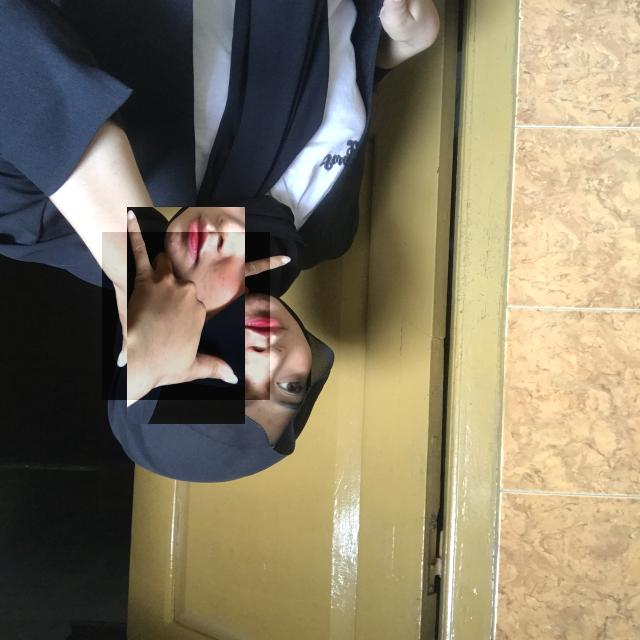telpon: (102, 232, 270, 400)
